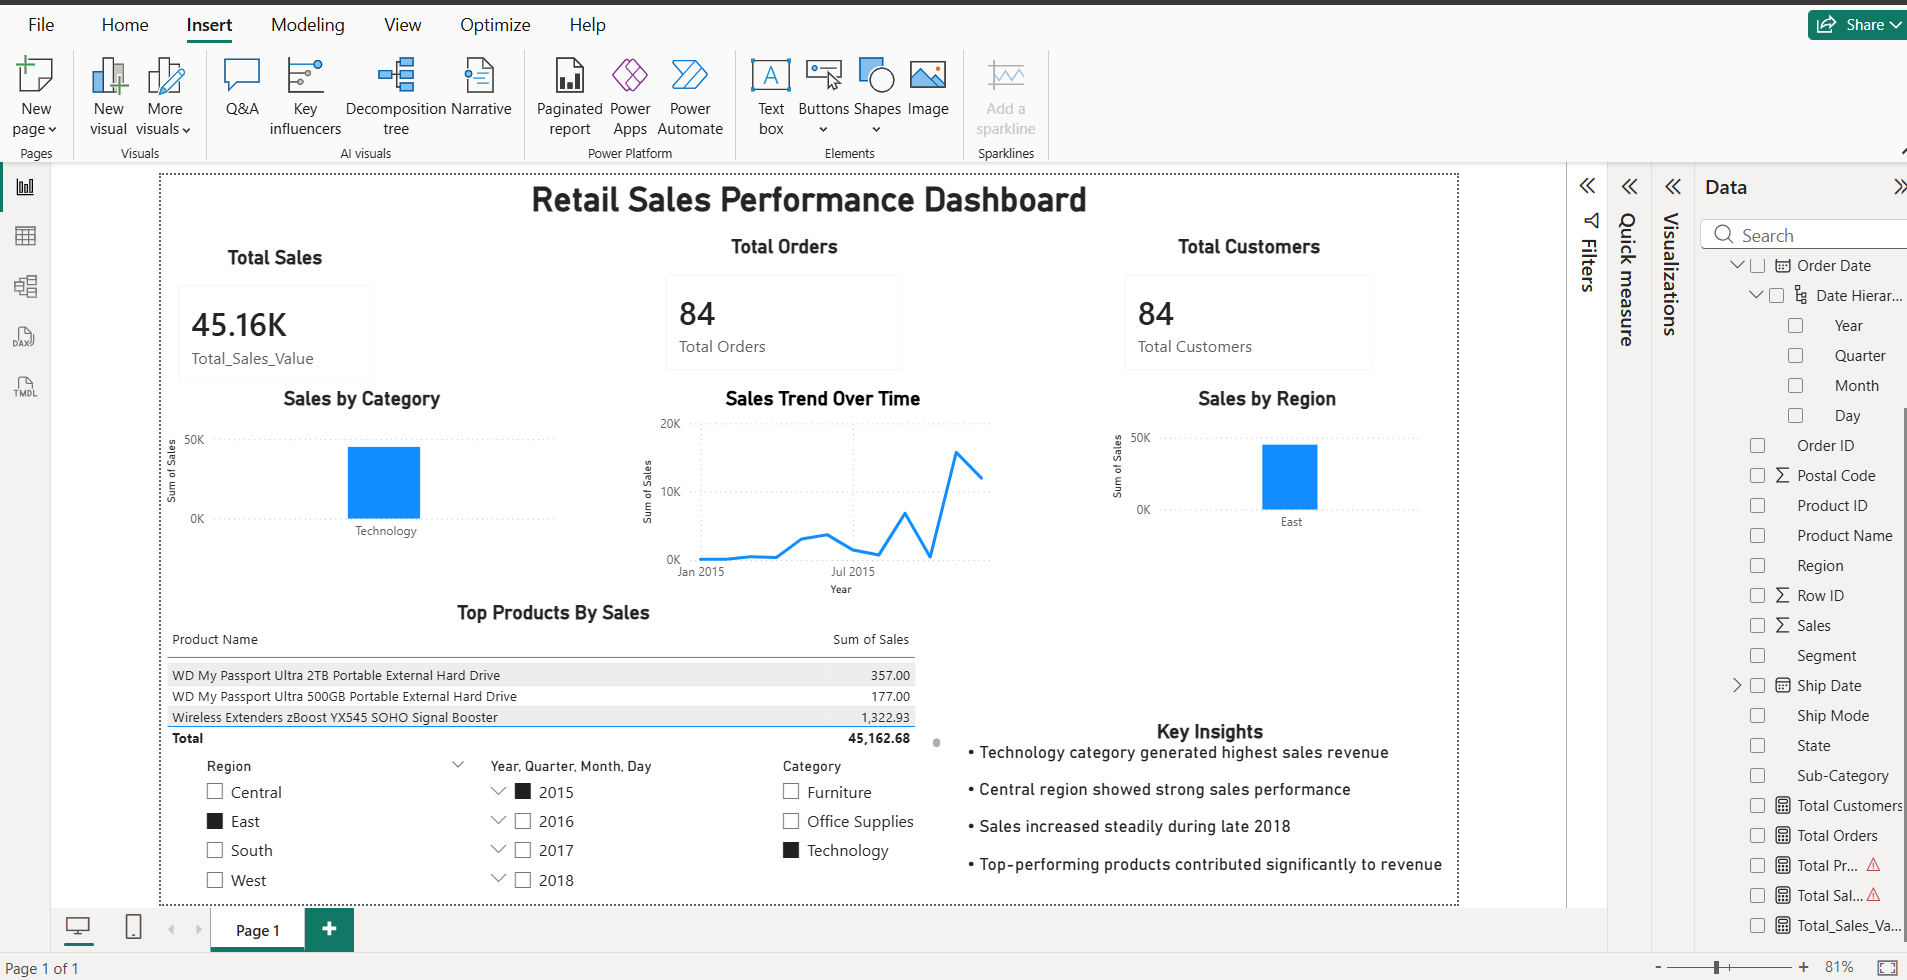

The dashboard page shown, as its layout file describes it:
{"tool":"powerbi","page":{"name":"Page 1","canvas":[1280,720],"ordinal":0},"visuals":[{"type":"cardVisual","title":"Total Sales","fields":{"Data":["train.Total_Sales_Value"]},"box":[0,70.1,225.4,150.7],"z":0},{"type":"lineChart","title":"Sales Trend Over Time","fields":{"Y":["Sum(train.Sales)"],"Category":["train.Order Date.Variation.Date Hierarchy.Year","train.Order Date.Variation.Date Hierarchy.Month"]},"box":[470.1,210.4,367.2,210.4],"z":1000},{"type":"cardVisual","title":"Total Customers","fields":{"Data":["train.Total Customers"]},"box":[934.3,59.7,280.6,150.7],"z":2000},{"type":"clusteredColumnChart","title":"Sales by Category","fields":{"Category":["train.Category"],"Y":["Sum(train.Sales)"]},"box":[0,210.4,397,159.7],"z":3000},{"type":"clusteredColumnChart","title":"Sales by Region","fields":{"Category":["train.Region"],"Y":["Sum(train.Sales)"]},"box":[934.3,210.4,316.4,150.7],"z":4000},{"type":"tableEx","title":"Top Products By Sales","fields":{"Values":["train.Product Name","Sum(train.Sales)"]},"box":[0,421,775.3,149.4],"z":5000},{"type":"slicer","fields":{"Values":["train.Region"]},"box":[32.1,570.4,280.2,149.4],"z":6000},{"type":"slicer","fields":{"Values":["train.Category"]},"box":[601.5,570.1,174.6,149.3],"z":7000},{"type":"slicer","fields":{"Values":["train.Order Date.Variation.Date Hierarchy.Year","train.Order Date.Variation.Date Hierarchy.Quarter","train.Order Date.Variation.Date Hierarchy.Month","train.Order Date.Variation.Date Hierarchy.Day"]},"box":[311.9,570.1,280.6,149.3],"z":8000},{"type":"cardVisual","title":"Total Orders","fields":{"Data":["train.Total Orders"]},"box":[482.1,59.7,268.7,150.7],"z":9000},{"type":"textbox","box":[0,0,1280.6,59.7],"z":10000},{"type":"textbox","box":[791,532.8,489.6,186.6],"z":11000}]}

Visuals, with their boxes on the page's 1280x720 design canvas (x1, y1, x2, y2). These are canvas units, not pixel positions in the 1907x980 screenshot, which may show the page scaled, cropped or inside an application window:
"Total Sales" cardVisual: [0, 70, 225, 221]
"Sales Trend Over Time" lineChart: [470, 210, 837, 421]
"Total Customers" cardVisual: [934, 60, 1215, 210]
"Sales by Category" clusteredColumnChart: [0, 210, 397, 370]
"Sales by Region" clusteredColumnChart: [934, 210, 1251, 361]
"Top Products By Sales" tableEx: [0, 421, 775, 570]
slicer - train.Region: [32, 570, 312, 720]
slicer - train.Category: [602, 570, 776, 719]
slicer - train.Order Date.Variation.Date Hierarchy.Year x train.Order Date.Variation.Date Hierarchy.Quarter: [312, 570, 592, 719]
"Total Orders" cardVisual: [482, 60, 751, 210]
textbox: [0, 0, 1281, 60]
textbox: [791, 533, 1281, 719]
